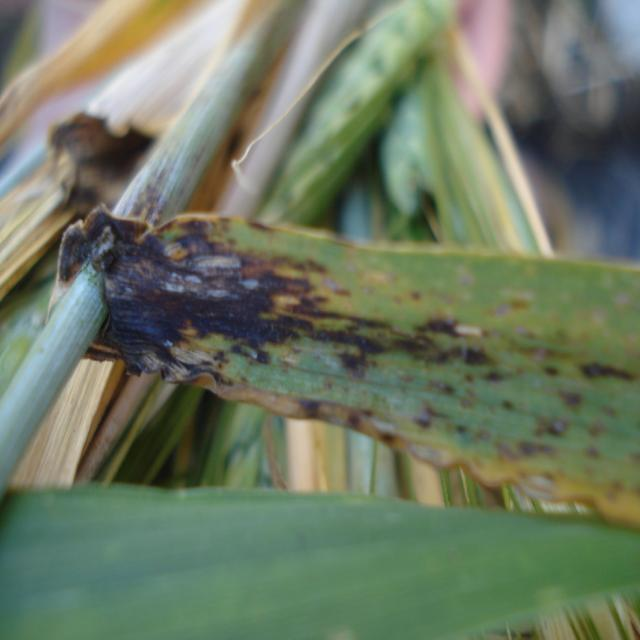wheat-stemrust: (59, 201, 637, 484)
